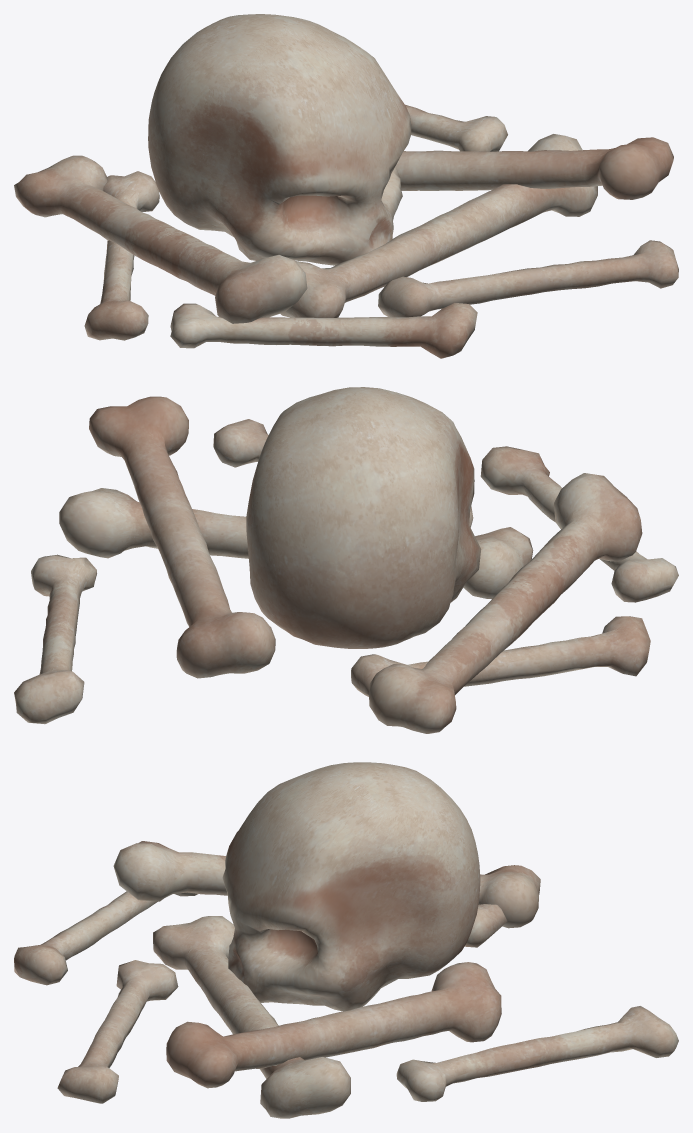
The model's file is BonePileEmbedded.fbx.
3 renders of one model, top to bottom at view 1: azimuth 30°, elevation 25°; view 2: azimuth 150°, elevation 25°; view 3: azimuth 270°, elevation 25°, orthographic. The views are drawn at different scales.
Parts seen in each view (by area): view 1: BonePile; view 2: BonePile; view 3: BonePile.
Part boxes in pixels (<box>): BonePile: <box>14,14,678,358</box>; BonePile: <box>14,387,678,733</box>; BonePile: <box>14,762,678,1118</box>.
Bounding box in the file's own units: 39.44 × 16.12 × 42.38.
